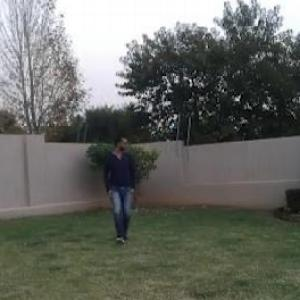follow: (105, 128, 138, 246)
